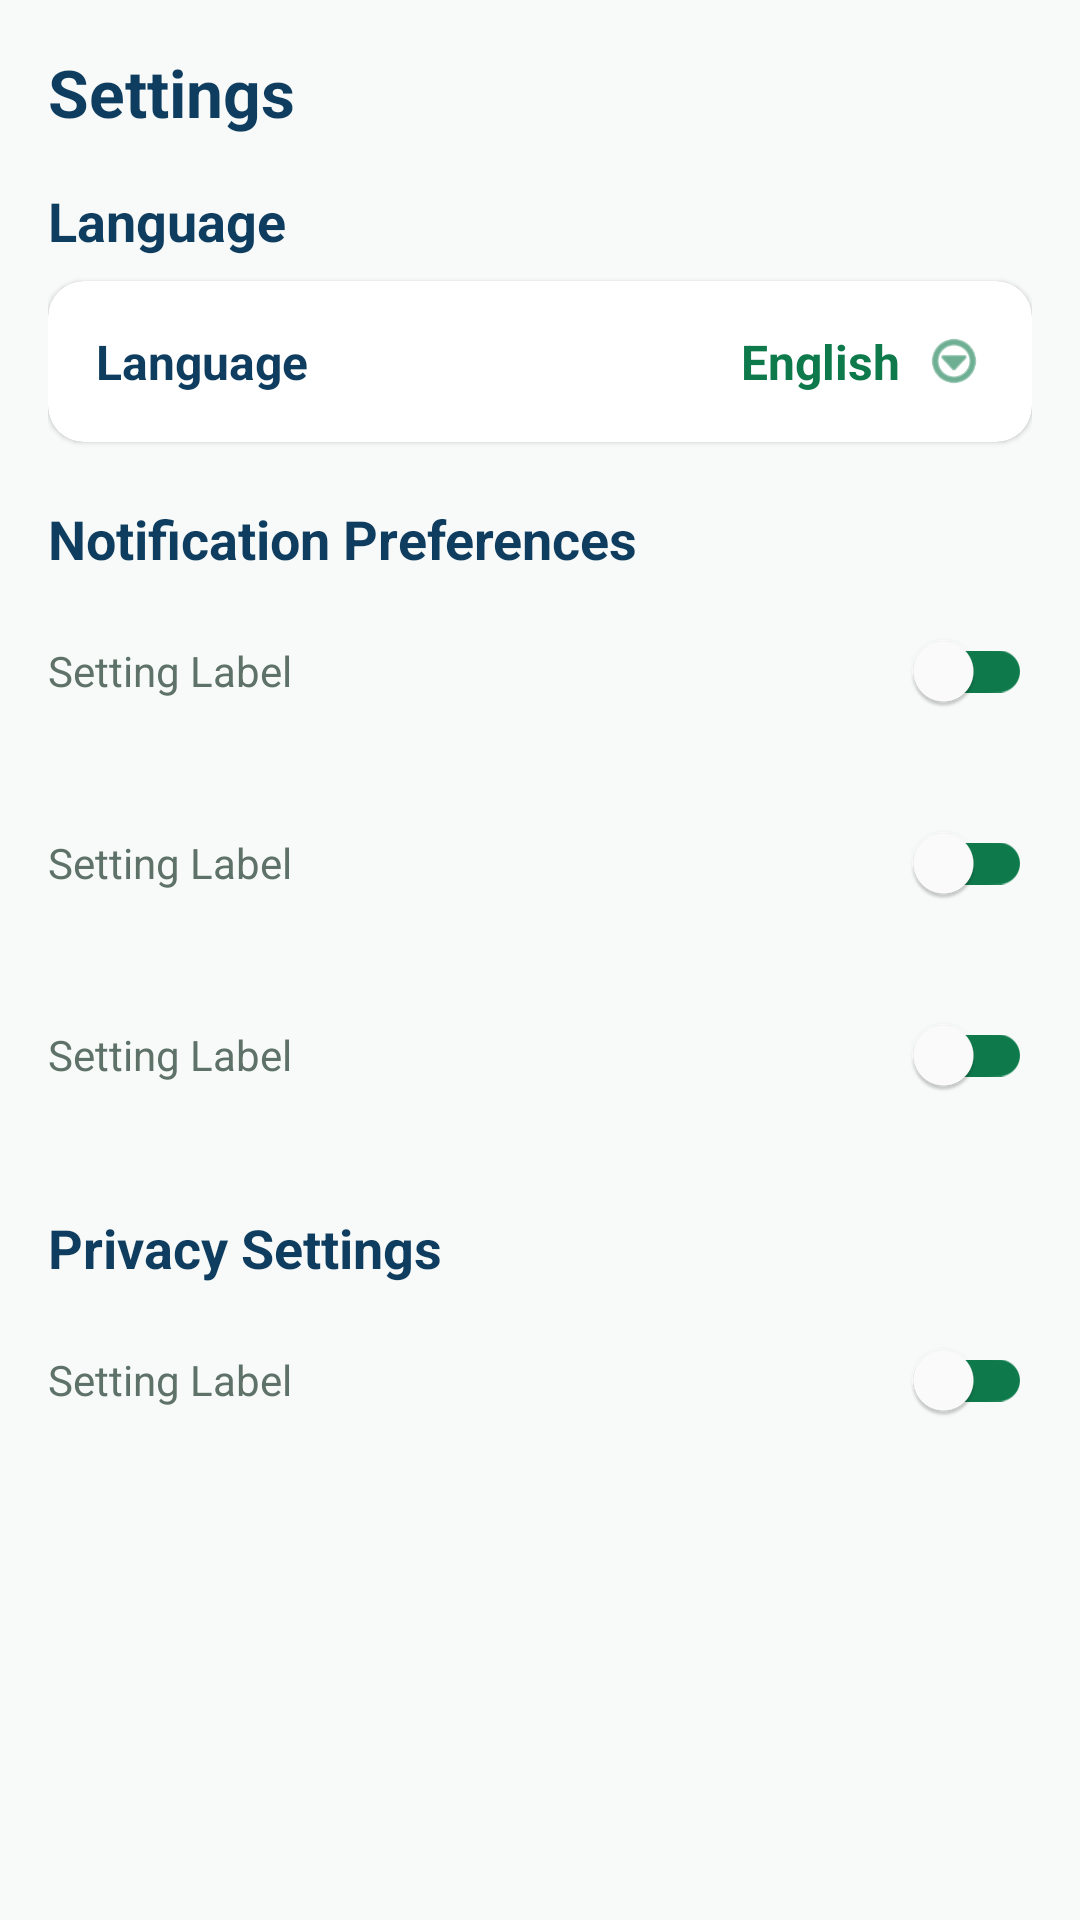

Named icons in this screenshot (1080×1920) and their bounding boxes, bbox=(x1, y1, x2, y2):
more: bbox=(932, 339, 976, 383)
